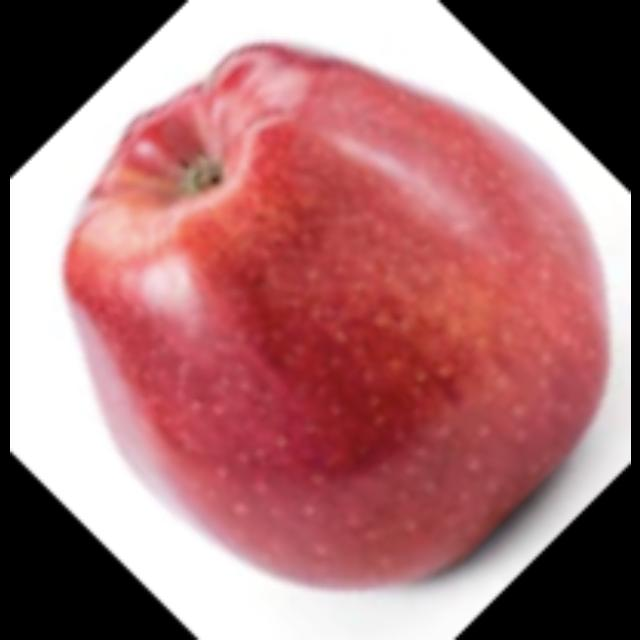Apel Segar: (65, 42, 613, 590)
